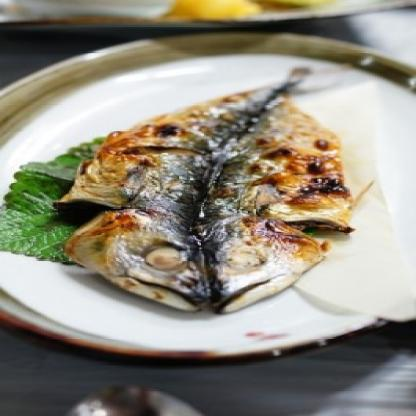Peixe: (45, 50, 392, 324)
